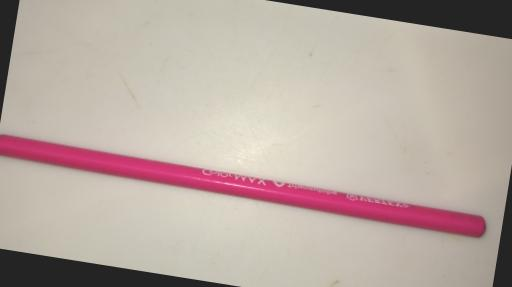Pencil: (0, 133, 500, 238)
